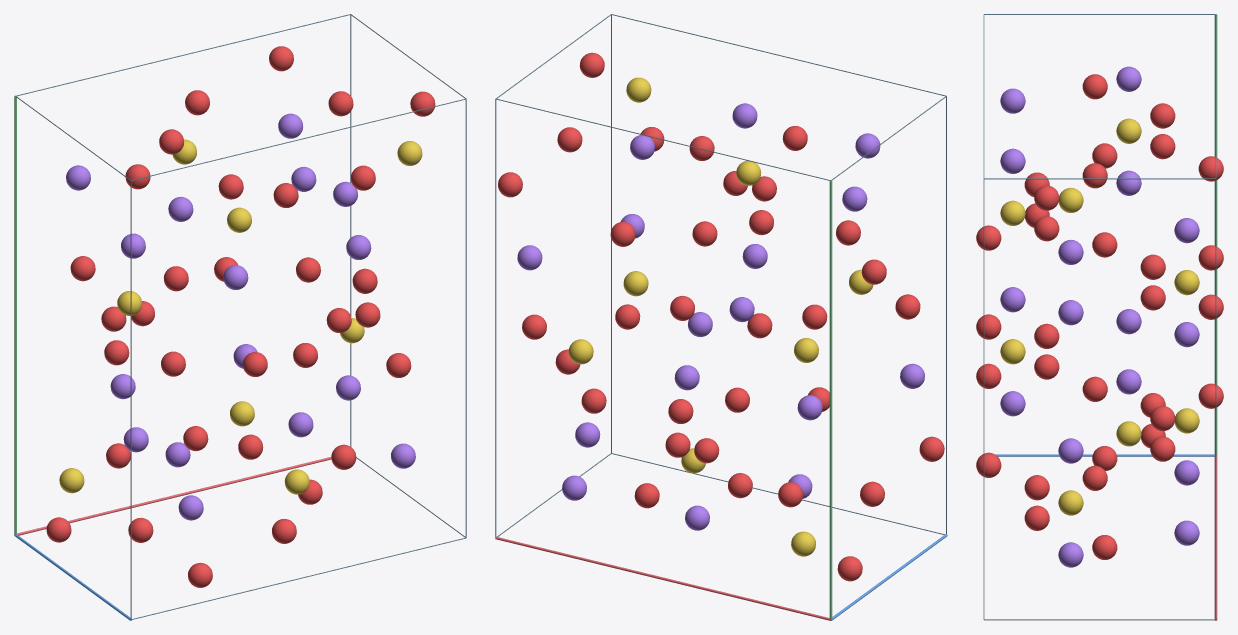
File: chat-thenardite.glb
The picture shows the model from 3 angles, left to right: view 1: azimuth 30°, elevation 25°; view 2: azimuth 150°, elevation 25°; view 3: azimuth 270°, elevation 25°; orthographic projection.
Visible parts, largest first — view 1: Ô mạng và các trục a, b, c; view 2: Ô mạng và các trục a, b, c; view 3: O · O · 1 (×30), Na · Na · 1 (×16), Ô mạng và các trục a, b, c, S · S · 1 (×8).
Boxes of the visible parts, bbox=[...] form: Ô mạng và các trục a, b, c: bbox=[14, 14, 466, 620]; Ô mạng và các trục a, b, c: bbox=[495, 14, 947, 620]; O · O · 1 (×30): bbox=[976, 74, 1223, 559]; Na · Na · 1 (×16): bbox=[1000, 66, 1199, 567]; Ô mạng và các trục a, b, c: bbox=[983, 14, 1217, 620]; S · S · 1 (×8): bbox=[1000, 118, 1199, 515].
Size of the model in its own units: 9.88 by 12.35 by 6.27.
